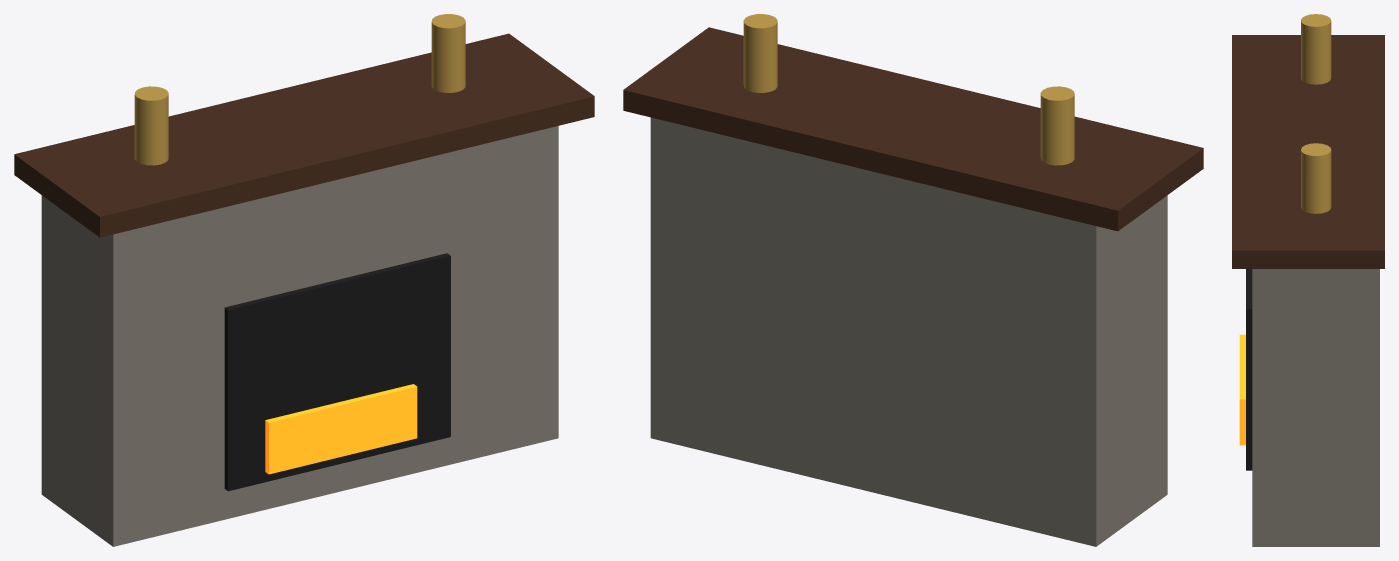
Rendered from fireplace.glb.
3 renders of one model, left to right at view 1: azimuth 30°, elevation 25°; view 2: azimuth 150°, elevation 25°; view 3: azimuth 270°, elevation 25°, orthographic. The views are drawn at different scales.
Parts seen in each view (by area): view 1: fireplace; view 2: fireplace; view 3: fireplace.
Boxes of the visible parts, x1,y1,x2,y2 form: fireplace: (14,14,594,546); fireplace: (623,14,1203,546); fireplace: (1232,14,1384,546).
Bounding box in the file's own units: 2 × 1.58 × 0.5999.
Materials: 5 (5 with a texture image).
